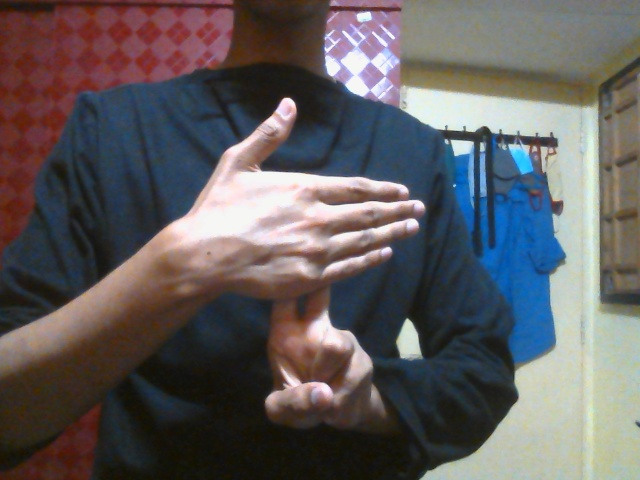N: (190, 97, 430, 439)
